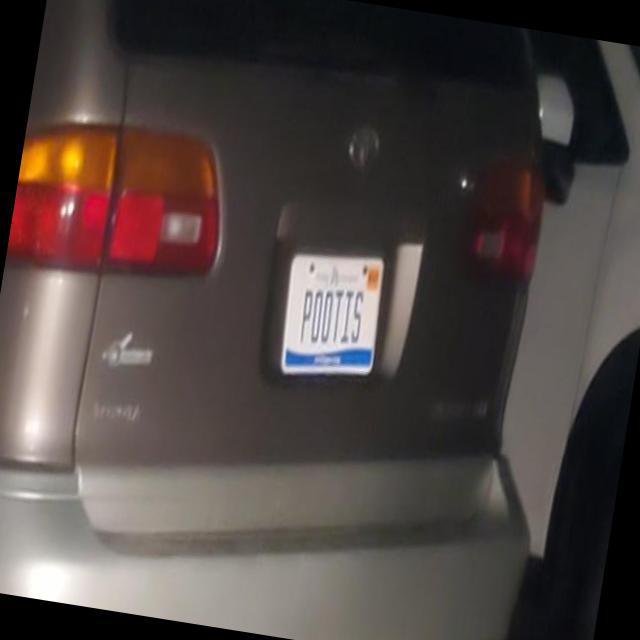LicensePlate: (278, 255, 385, 376)
